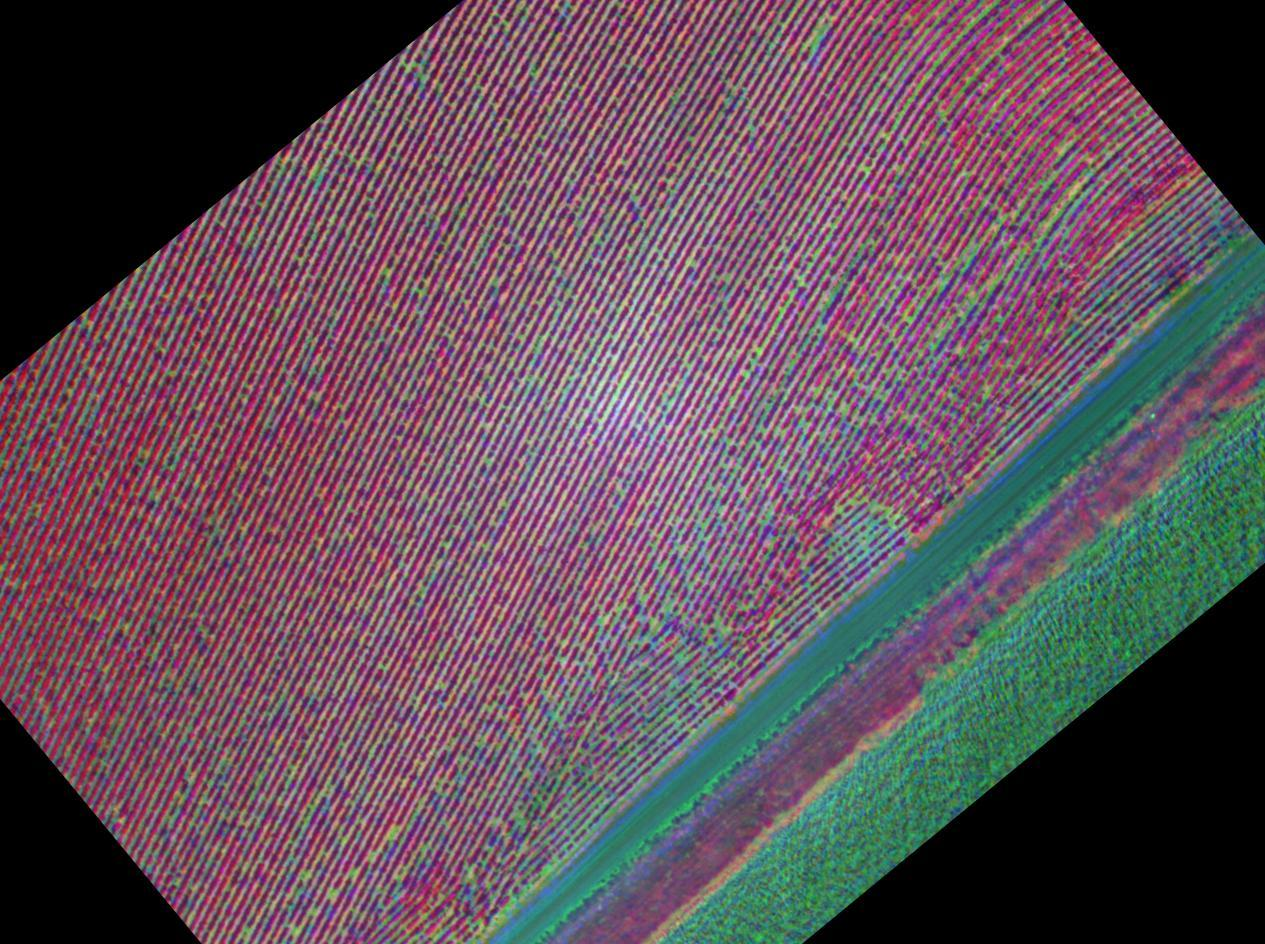dc: (664, 604, 670, 612), (1059, 144, 1065, 151), (861, 167, 869, 172), (812, 45, 817, 51), (599, 619, 605, 623), (871, 505, 875, 510), (651, 622, 655, 625)
